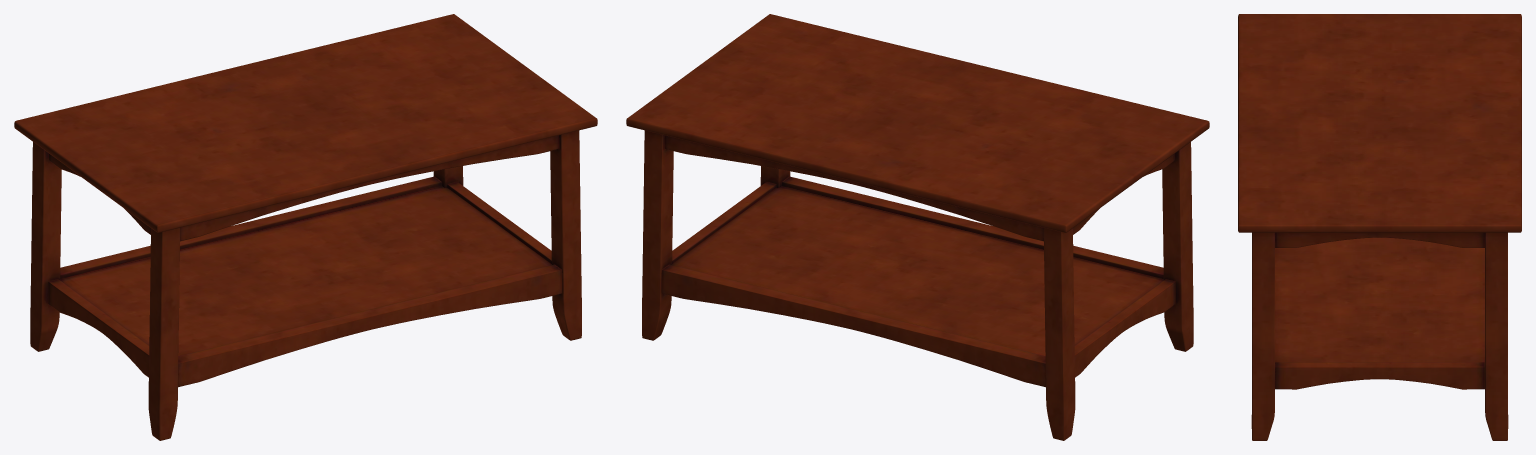
Rendered from abo-B07FGH9TZF.glb.
The picture shows the model from 3 angles, left to right: view 1: azimuth 30°, elevation 25°; view 2: azimuth 150°, elevation 25°; view 3: azimuth 270°, elevation 25°; orthographic projection.
Size of the model in its own units: 0.943 by 0.456 by 0.533.
Materials: 1 (1 with a texture image).
